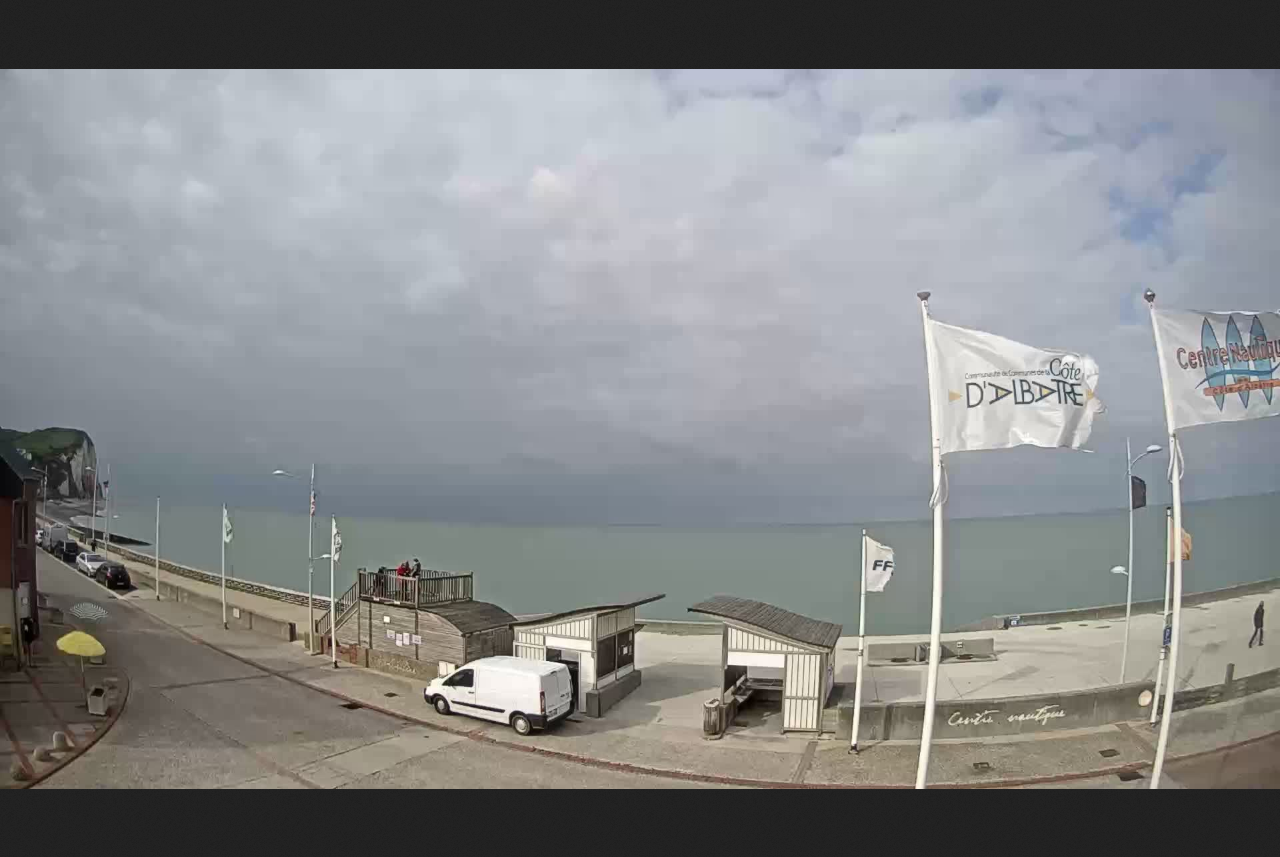yes: (927, 317, 1098, 451), (1150, 302, 1280, 429)
